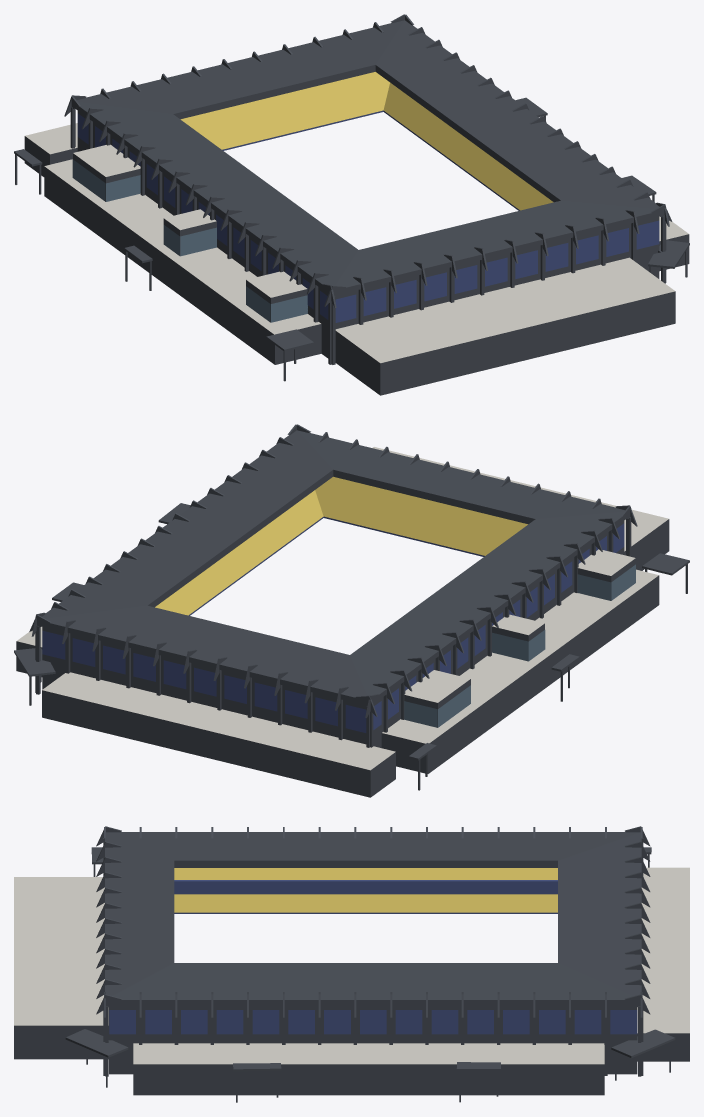
Rendered from nash-geodis-park.glb.
The picture shows the model from 3 angles, top to bottom: view 1: azimuth 30°, elevation 25°; view 2: azimuth 150°, elevation 25°; view 3: azimuth 270°, elevation 25°; orthographic projection. The views are drawn at different scales.
Visible parts, largest first — view 1: GEODIS Park; view 2: GEODIS Park; view 3: GEODIS Park.
Boxes of the visible parts, <box> form: GEODIS Park: <box>14,14,689,395</box>; GEODIS Park: <box>14,424,689,797</box>; GEODIS Park: <box>14,826,689,1102</box>.
Size of the model in its own units: 192 by 31.6 by 238.
